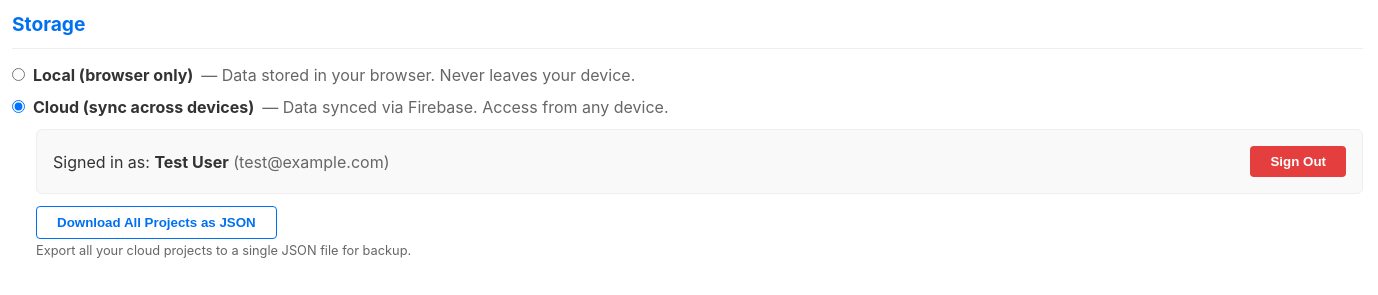
Scenario: StorageSection › Download All Projects as JSON › reports why the export failed
Click the button "Download All Projects as JSON" at (156,222), box [36,206,277,239]
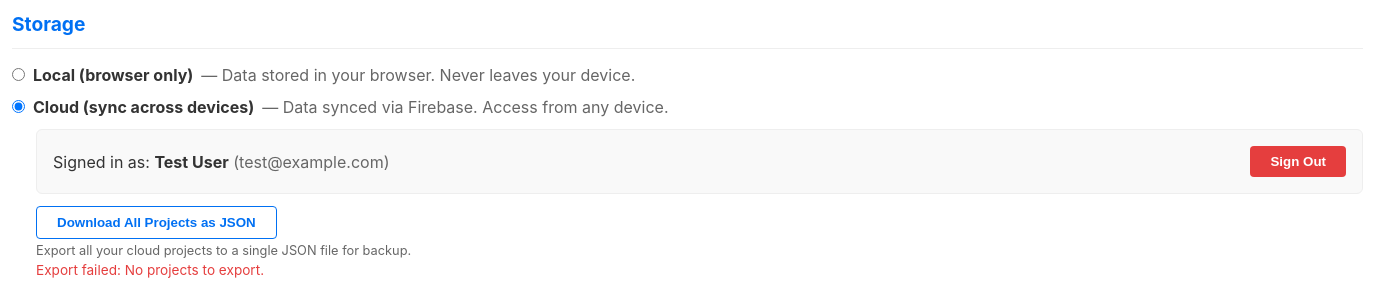
expect the text "Export failed: No projects to export." is shown: met, box [36,262,264,278]
